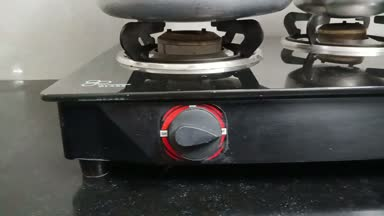flame_gas_off: (93, 1, 289, 168)
